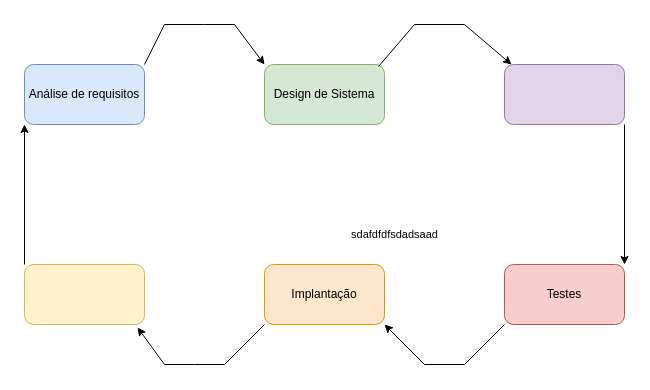
The diagram is 650 pixels wide and 390 high, and some of its shapes have lost their labels. Each missing label, with the box of its shape:
Implementação: (504, 64, 624, 124)
Manu: (24, 264, 144, 324)
